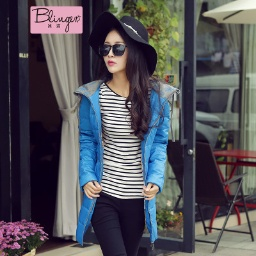face: (92, 22, 151, 88)
